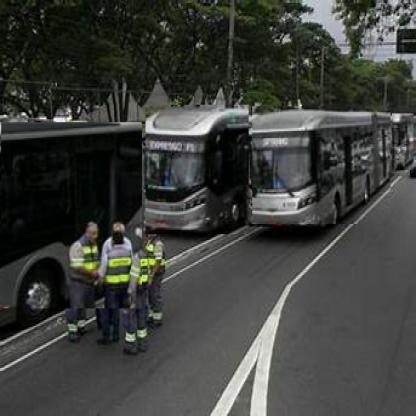bus: (2, 123, 144, 311), (253, 107, 393, 227), (146, 106, 251, 237), (393, 115, 416, 173)
